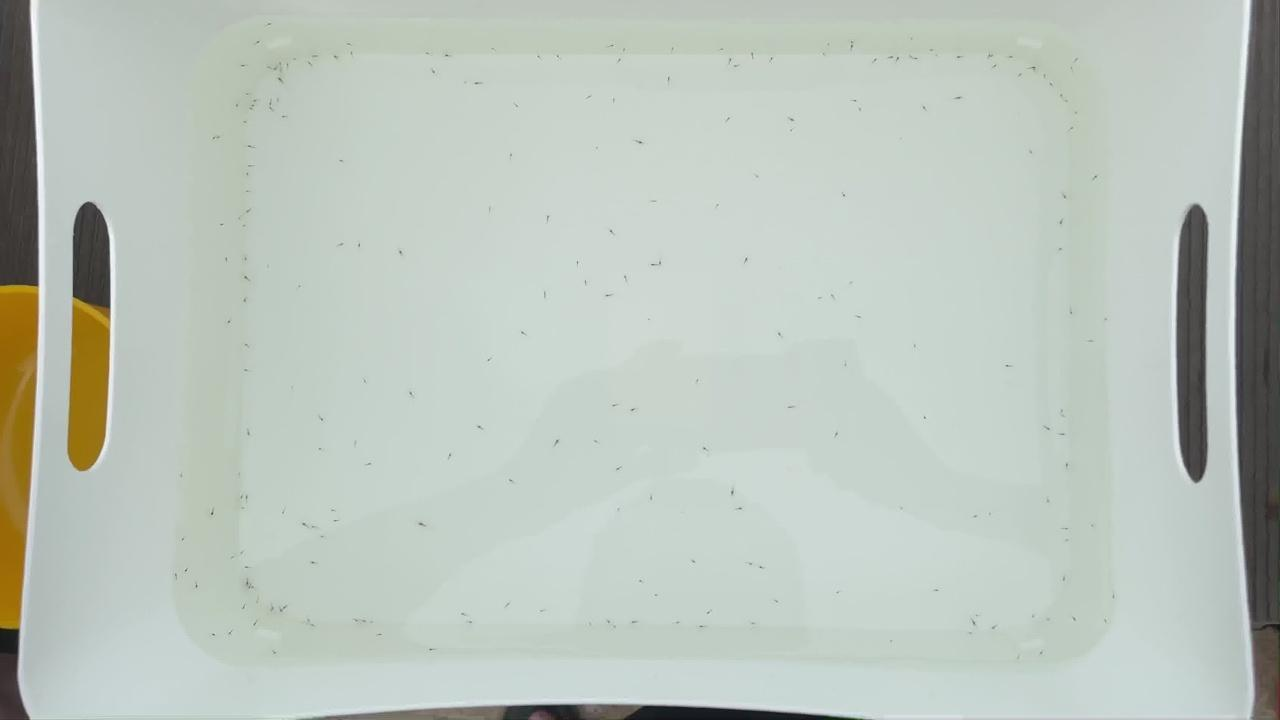shrimp: (1100, 617, 1113, 625), (967, 617, 980, 625), (1087, 522, 1100, 530), (1043, 423, 1056, 431), (585, 622, 598, 630), (535, 606, 548, 614), (377, 633, 390, 641), (171, 572, 184, 580), (172, 473, 185, 481), (241, 495, 254, 503), (308, 523, 321, 531), (317, 534, 330, 542), (317, 418, 330, 426), (363, 462, 376, 470), (830, 428, 843, 436), (837, 362, 850, 370), (1027, 146, 1040, 154), (1016, 69, 1029, 77), (667, 46, 680, 54), (474, 79, 487, 87), (604, 229, 617, 237), (621, 273, 634, 281), (602, 295, 615, 303), (580, 279, 593, 287), (615, 462, 628, 470), (333, 240, 346, 248), (238, 367, 251, 375), (245, 207, 258, 215), (244, 163, 257, 171), (205, 135, 218, 143), (210, 135, 223, 143), (247, 96, 260, 104), (229, 102, 242, 110), (897, 506, 910, 514), (1111, 594, 1123, 602), (424, 644, 436, 652), (829, 295, 841, 303), (1066, 307, 1078, 315), (1072, 107, 1084, 115), (1055, 90, 1067, 98), (1066, 63, 1078, 71), (1072, 57, 1084, 65), (1045, 79, 1057, 87), (884, 52, 896, 60), (889, 57, 901, 65), (701, 445, 713, 453), (263, 63, 275, 71), (252, 594, 264, 602), (1039, 616, 1052, 623), (1027, 611, 1040, 618), (1009, 615, 1022, 622), (1013, 647, 1026, 654), (1037, 647, 1050, 654), (987, 623, 1000, 630), (963, 629, 976, 636), (929, 587, 942, 594), (970, 513, 983, 520), (986, 508, 999, 515), (1056, 576, 1069, 583), (1060, 535, 1073, 542), (1058, 527, 1071, 534), (1043, 496, 1056, 503), (1064, 460, 1077, 467), (1058, 433, 1071, 440), (770, 599, 783, 606), (832, 590, 845, 597), (888, 640, 901, 647), (745, 618, 758, 625), (753, 563, 766, 570), (726, 487, 739, 494), (685, 558, 698, 565), (703, 604, 716, 611), (673, 618, 686, 625), (651, 591, 664, 598), (627, 618, 640, 625), (610, 623, 623, 630), (601, 616, 614, 623), (504, 603, 517, 610), (463, 618, 476, 625), (457, 608, 470, 615), (365, 618, 378, 625), (348, 613, 361, 620), (308, 625, 321, 632), (302, 617, 315, 624), (267, 650, 280, 657), (278, 602, 291, 609), (222, 631, 235, 638), (206, 633, 219, 640), (236, 605, 249, 612), (241, 580, 254, 587), (243, 564, 256, 571), (234, 548, 247, 555), (228, 552, 241, 559), (204, 508, 217, 515), (233, 470, 246, 477), (242, 432, 255, 439), (278, 509, 291, 516), (307, 560, 320, 567), (328, 517, 341, 524), (328, 504, 341, 511), (315, 446, 328, 453), (350, 444, 363, 451), (416, 521, 429, 528), (917, 412, 930, 419), (784, 403, 797, 410), (814, 295, 827, 302), (845, 281, 858, 288), (852, 313, 865, 320), (906, 342, 919, 349), (1004, 363, 1017, 370), (1088, 338, 1101, 345), (1099, 315, 1112, 322), (1054, 249, 1067, 256), (1054, 216, 1067, 223), (1056, 194, 1069, 201), (1089, 173, 1102, 180), (1064, 124, 1077, 131), (1060, 98, 1073, 105), (1039, 70, 1052, 77), (1006, 56, 1019, 63), (988, 61, 1001, 68), (952, 52, 965, 59), (952, 95, 965, 102), (919, 102, 932, 109), (857, 107, 870, 114), (786, 125, 799, 132), (787, 115, 800, 122), (821, 50, 834, 57), (824, 41, 837, 48), (845, 38, 858, 45), (846, 44, 859, 51), (869, 55, 882, 62), (909, 56, 922, 63), (925, 45, 938, 52), (930, 50, 943, 57), (763, 55, 776, 62), (746, 47, 759, 54), (733, 64, 746, 71), (724, 56, 737, 63), (716, 45, 729, 52), (724, 114, 737, 121), (739, 257, 752, 264), (712, 203, 725, 210), (648, 197, 661, 204), (633, 138, 646, 145), (663, 76, 676, 83), (622, 42, 635, 49), (603, 41, 616, 48), (606, 97, 619, 104), (582, 92, 595, 99), (554, 55, 567, 62), (503, 51, 516, 58), (459, 78, 472, 85), (428, 66, 441, 73), (507, 153, 520, 160), (543, 217, 556, 224), (485, 204, 498, 211), (646, 260, 659, 267), (655, 258, 668, 265), (572, 258, 585, 265), (620, 345, 633, 352), (692, 375, 705, 382), (609, 400, 622, 407), (627, 407, 640, 414), (550, 439, 563, 446), (506, 475, 519, 482), (444, 456, 457, 463), (476, 423, 489, 430), (485, 355, 498, 362), (518, 328, 531, 335), (359, 378, 372, 385), (353, 244, 366, 251), (333, 159, 346, 166), (296, 282, 309, 289), (240, 341, 253, 348), (221, 319, 234, 326), (240, 277, 253, 284), (240, 256, 253, 263), (219, 258, 232, 265), (216, 218, 229, 225), (241, 222, 254, 229), (231, 216, 244, 223), (243, 186, 256, 193), (239, 169, 252, 176), (243, 143, 256, 150), (239, 120, 252, 127), (248, 104, 261, 111), (240, 93, 253, 100), (276, 114, 289, 121), (265, 107, 278, 114), (265, 100, 278, 107), (272, 95, 285, 102), (238, 63, 251, 70), (251, 37, 264, 44), (275, 66, 288, 73), (269, 66, 282, 73), (280, 59, 293, 66), (289, 57, 302, 64), (305, 59, 318, 66), (308, 52, 321, 59), (294, 42, 307, 49), (342, 39, 355, 46), (539, 561, 552, 568), (1067, 621, 1079, 628), (1056, 413, 1068, 420), (1056, 403, 1068, 410), (740, 560, 752, 567), (734, 508, 746, 515), (695, 625, 707, 632), (635, 576, 647, 583), (357, 618, 369, 625), (275, 605, 287, 612), (264, 606, 276, 613), (252, 618, 264, 625), (247, 586, 259, 593), (192, 582, 204, 589), (181, 569, 193, 576), (175, 536, 187, 543), (236, 508, 248, 515), (236, 498, 248, 505), (297, 520, 309, 527), (773, 333, 785, 340), (1028, 66, 1040, 73), (984, 52, 996, 59), (851, 94, 863, 101), (751, 170, 763, 177), (840, 189, 852, 196), (613, 56, 625, 63), (535, 52, 547, 59), (513, 104, 525, 111), (424, 47, 436, 54), (441, 50, 453, 57), (541, 293, 553, 300), (645, 317, 657, 324), (646, 491, 658, 498), (613, 509, 625, 516), (590, 437, 602, 444), (407, 391, 419, 398), (396, 249, 408, 256), (369, 162, 381, 169), (241, 297, 253, 304), (247, 107, 259, 114), (264, 17, 276, 24), (275, 76, 287, 83), (275, 61, 287, 68), (330, 55, 342, 62), (346, 49, 358, 56)
